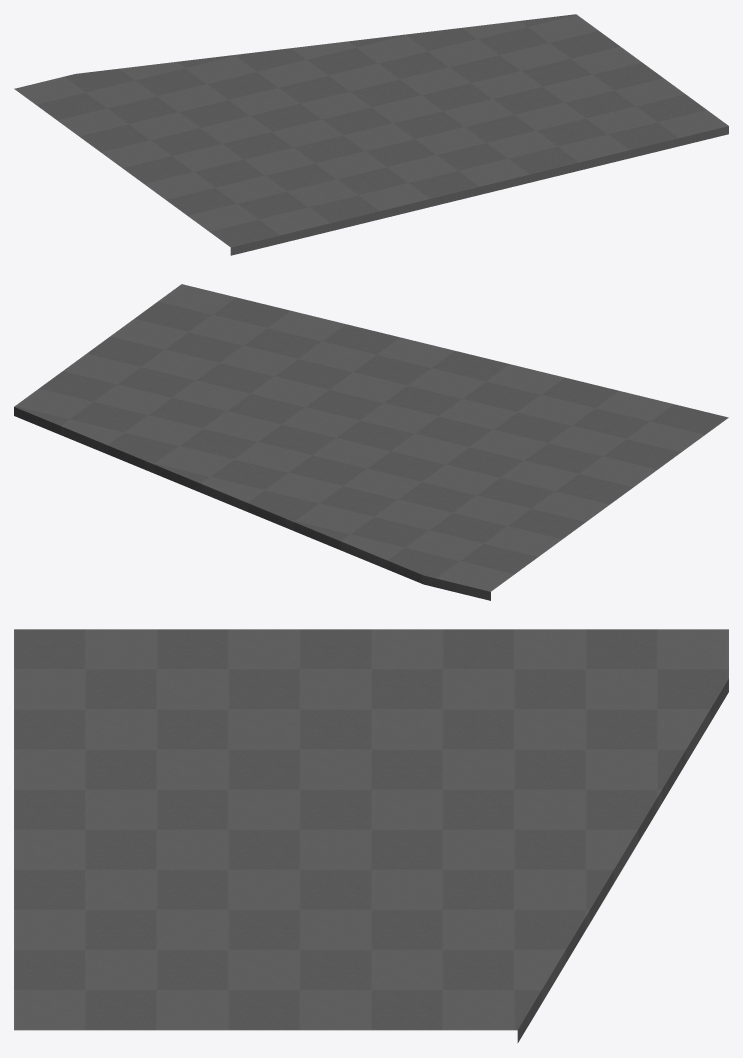
The model's file is SM_Floor_02.glb.
3 renders of one model, top to bottom at view 1: azimuth 30°, elevation 25°; view 2: azimuth 150°, elevation 25°; view 3: azimuth 270°, elevation 25°, orthographic. The views are drawn at different scales.
Parts seen in each view (by area): view 1: SM_Floor_02; view 2: SM_Floor_02; view 3: SM_Floor_02.
Boxes of the visible parts, x1,y1,x2,y2 form: SM_Floor_02: [14, 14, 728, 255]; SM_Floor_02: [14, 284, 728, 600]; SM_Floor_02: [14, 629, 728, 1043].
Bounding box in the file's own units: 1586 × 25.18 × 1195.
Materials: 1 (1 with a texture image).
